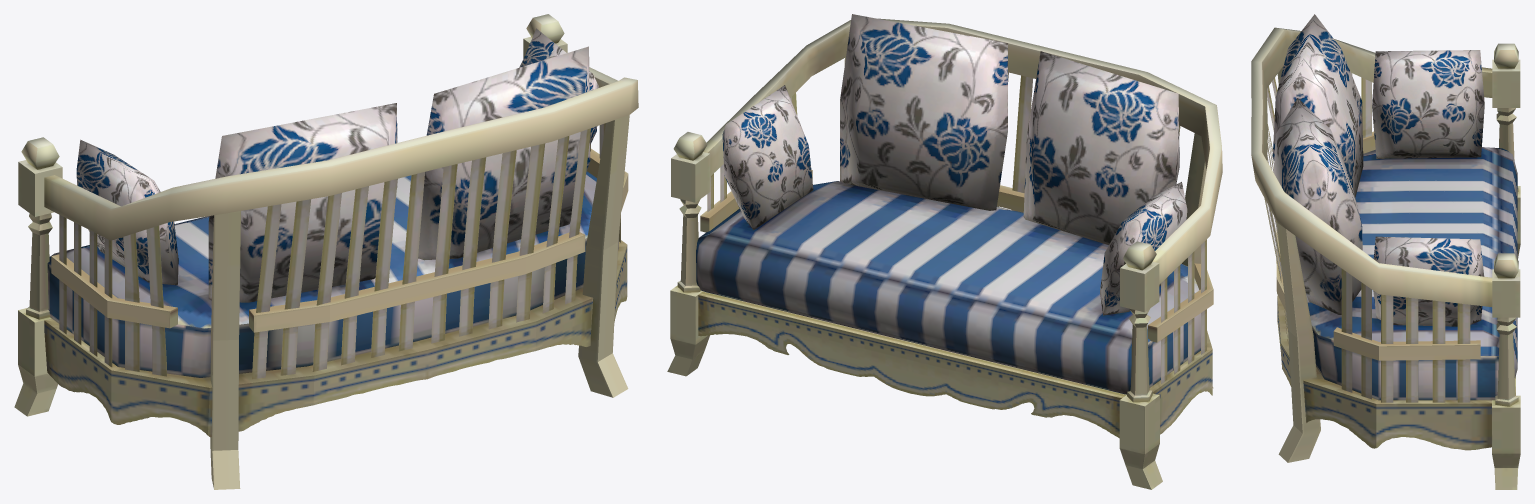
File: furni_0200126_01.FBX
The picture shows the model from 3 angles, left to right: view 1: azimuth 30°, elevation 25°; view 2: azimuth 150°, elevation 25°; view 3: azimuth 270°, elevation 25°; orthographic projection. The views are drawn at different scales.
Parts seen in each view (by area): view 1: furni_0200126; view 2: furni_0200126; view 3: furni_0200126.
Part boxes in pixels (x1,y1,x2,y2): furni_0200126: [14, 14, 638, 489]; furni_0200126: [667, 14, 1222, 489]; furni_0200126: [1251, 14, 1520, 489].
Size of the model in its own units: 159 by 93.97 by 80.05.
